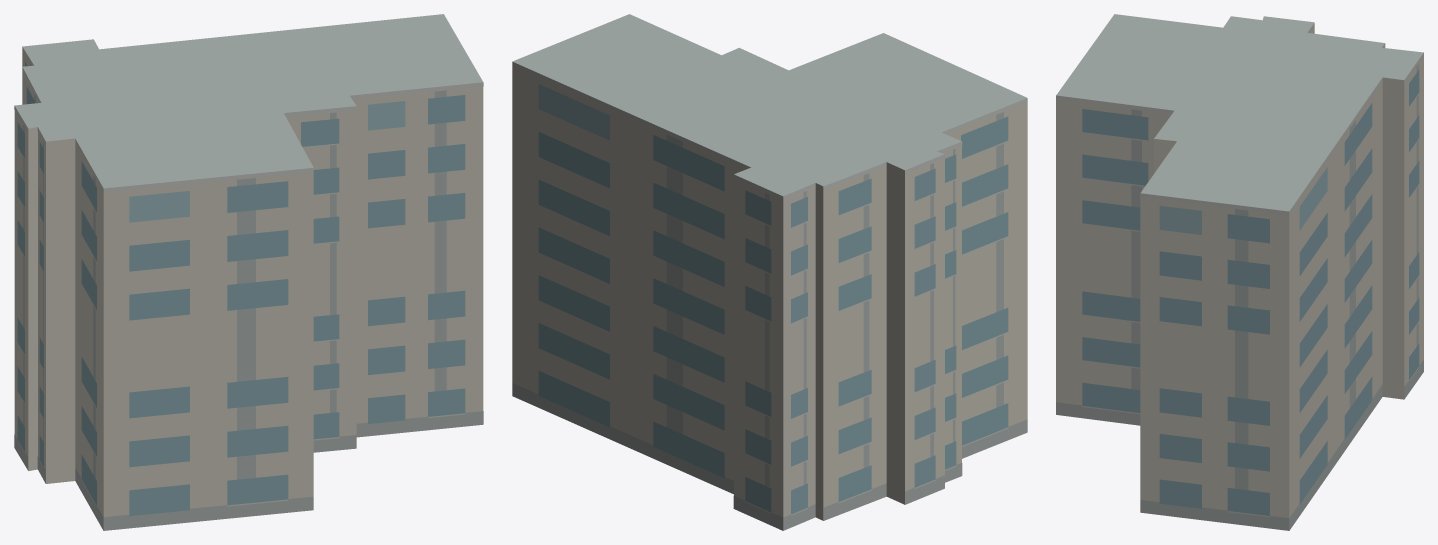
Rendered from survey-upis-32871956.glb.
3 views of the same model, side by side, from view 1: azimuth 30°, elevation 25°; view 2: azimuth 150°, elevation 25°; view 3: azimuth 270°, elevation 25° (orthographic). The views are drawn at different scales.
Visible parts, largest first — view 1: survey-upis-32871956.tmp; view 2: survey-upis-32871956.tmp; view 3: survey-upis-32871956.tmp.
Part boxes in pixels (x1,y1,x2,y2): survey-upis-32871956.tmp: (14,14,483,530); survey-upis-32871956.tmp: (512,14,1027,530); survey-upis-32871956.tmp: (1056,14,1423,530).
Size of the model in its own units: 24.94 by 18.8 by 19.63.
